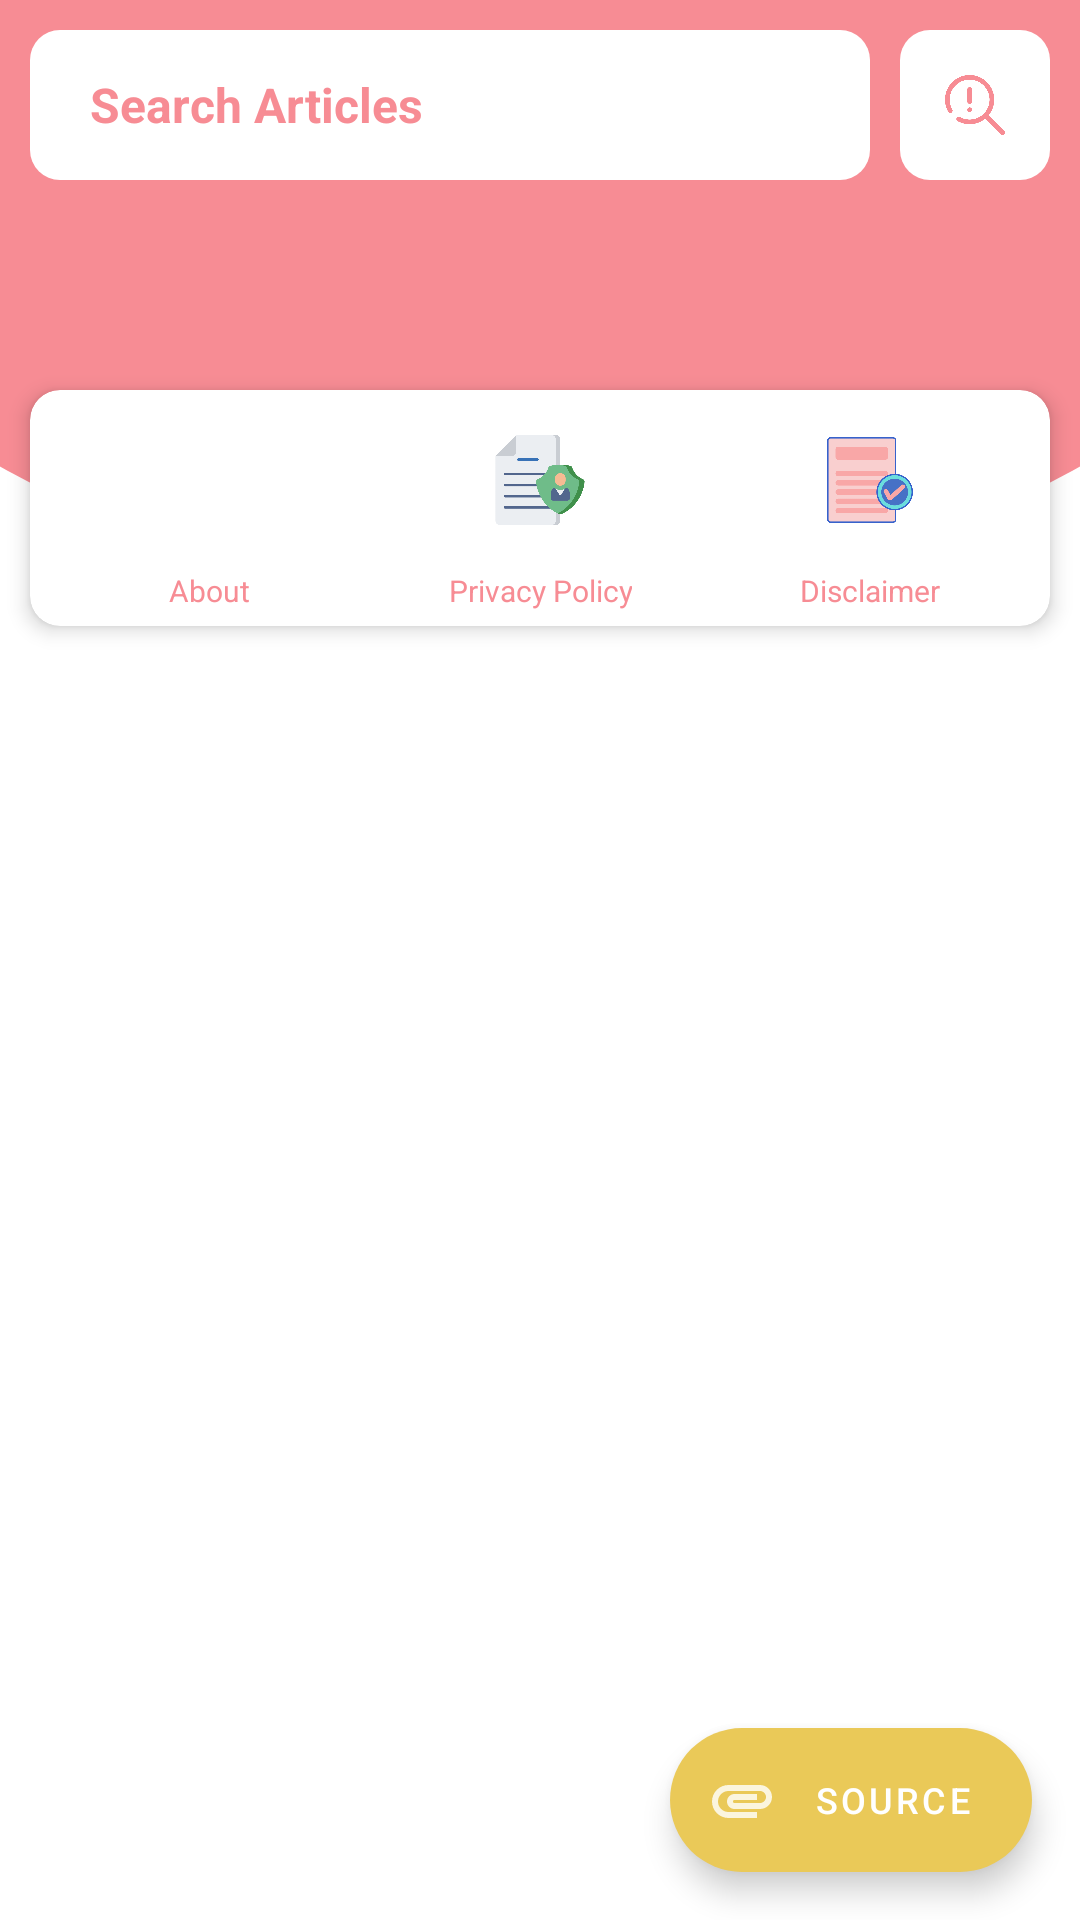

Where to tap for icons on this 1080 x 1920 app screen, as [x,y]:
search: [975,105]
